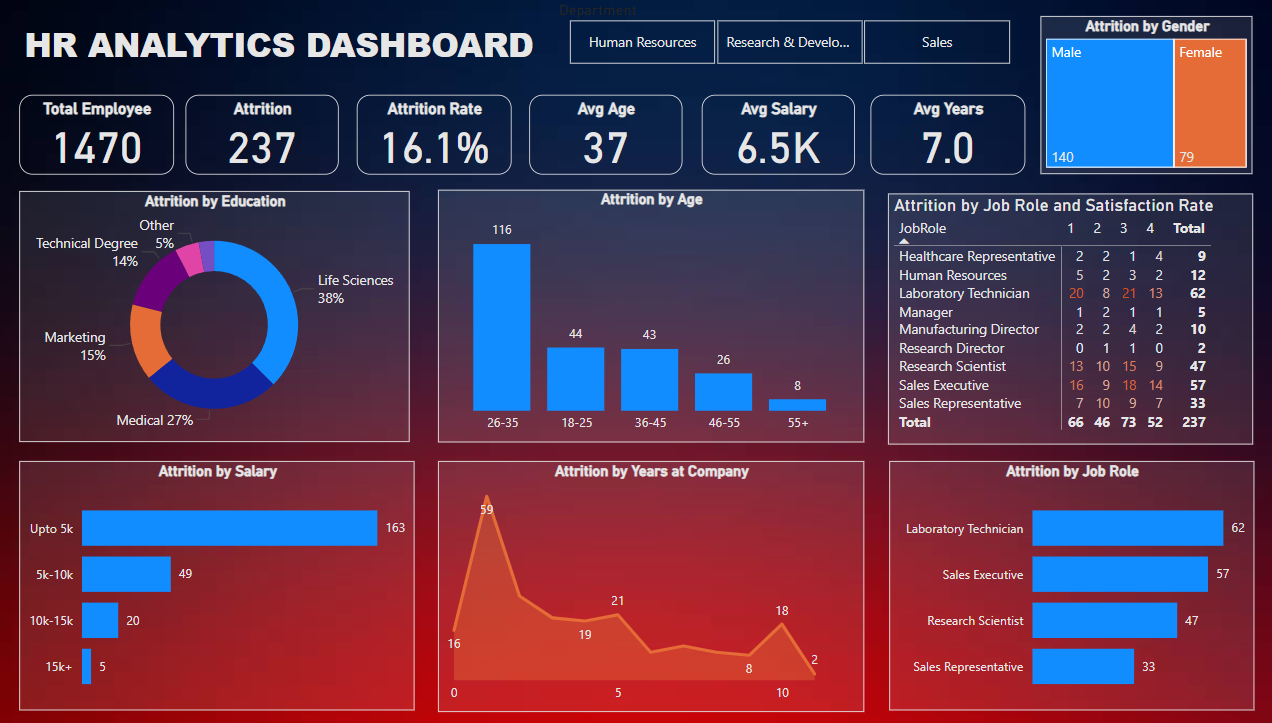

Layout of this report page (visuals, bound fields, positions):
{"tool":"powerbi","page":{"name":"Page 1","canvas":[1280,720],"ordinal":0},"visuals":[{"type":"card","title":"Total Employee","fields":{"Values":["Count(HR_Analytics.EmpID)"]},"box":[40,96.7,151.7,78.3],"z":0},{"type":"card","title":"Attrition","fields":{"Values":["Sum(HR_Analytics.Attrition Count)"]},"box":[203.3,96.7,150,78.3],"z":1000},{"type":"card","title":"Avg Salary","fields":{"Values":["Avg(HR_Analytics.MonthlyIncome)"]},"box":[710,96.7,150,78.3],"z":2000},{"type":"card","title":"Avg Age","fields":{"Values":["Avg(HR_Analytics.Age)"]},"box":[541.7,96.7,150,78.3],"z":3000},{"type":"card","title":"Attrition Rate","fields":{"Values":["HR_Analytics.AttritionRate"]},"box":[371.7,96.7,151.7,78.3],"z":4000},{"type":"card","title":"Avg Years","fields":{"Values":["Avg(HR_Analytics.YearsAtCompany)"]},"box":[876.7,96.7,151.7,78.3],"z":5000},{"type":"donutChart","title":"Attrition by Education","fields":{"Category":["HR_Analytics.EducationField"],"Y":["Sum(HR_Analytics.Attrition Count)"]},"box":[40,191.7,383.3,246.7],"z":6000},{"type":"columnChart","title":"Attrition by Age","fields":{"Category":["HR_Analytics.AgeGroup"],"Y":["Sum(HR_Analytics.Attrition Count)"]},"box":[451.7,190,418.3,248.3],"z":7000},{"type":"pivotTable","title":"Attrition by Job Role and Satisfaction Rate","fields":{"Rows":["HR_Analytics.JobRole"],"Columns":["HR_Analytics.JobSatisfaction"],"Values":["Sum(HR_Analytics.Attrition Count)"]},"box":[893.3,193.3,358.3,246.7],"z":8000},{"type":"clusteredBarChart","title":"Attrition by Salary","fields":{"Category":["HR_Analytics.SalarySlab"],"Y":["Sum(HR_Analytics.Attrition Count)"]},"box":[40,456.7,388.3,245],"z":9000},{"type":"clusteredBarChart","title":"Attrition by Job Role","fields":{"Y":["Sum(HR_Analytics.Attrition Count)"],"Category":["HR_Analytics.JobRole"]},"box":[895,456.7,358.3,245],"z":10000},{"type":"areaChart","title":"Attrition by Years at Company","fields":{"Category":["HR_Analytics.YearsAtCompany"],"Y":["Sum(HR_Analytics.Attrition Count)"]},"box":[451.7,456.7,418.3,246.7],"z":11000},{"type":"treemap","title":"Attrition by Age","fields":{"Group":["HR_Analytics.Gender"],"Values":["Sum(HR_Analytics.Attrition Count)"]},"box":[1043.3,20,208.3,155],"z":12000},{"type":"slicer","fields":{"Values":["HR_Analytics.Department"]},"box":[563.3,0,480,71.7],"z":13000},{"type":"textbox","box":[40,20,523.3,51.7],"z":14000}]}

Visuals, with their boxes in screenshot pixels (x1, y1, x2, y2), scaled from the page's 1280x720 canvas onto the 1272x723 screenshot:
"Total Employee" card: locate(40, 97, 191, 176)
"Attrition" card: locate(202, 97, 351, 176)
"Avg Salary" card: locate(706, 97, 855, 176)
"Avg Age" card: locate(538, 97, 687, 176)
"Attrition Rate" card: locate(369, 97, 520, 176)
"Avg Years" card: locate(871, 97, 1022, 176)
"Attrition by Education" donutChart: locate(40, 192, 421, 440)
"Attrition by Age" columnChart: locate(449, 191, 865, 440)
"Attrition by Job Role and Satisfaction Rate" pivotTable: locate(888, 194, 1244, 442)
"Attrition by Salary" clusteredBarChart: locate(40, 459, 426, 705)
"Attrition by Job Role" clusteredBarChart: locate(889, 459, 1245, 705)
"Attrition by Years at Company" areaChart: locate(449, 459, 865, 706)
"Attrition by Age" treemap: locate(1037, 20, 1244, 176)
slicer - HR_Analytics.Department: locate(560, 0, 1037, 72)
textbox: locate(40, 20, 560, 72)
